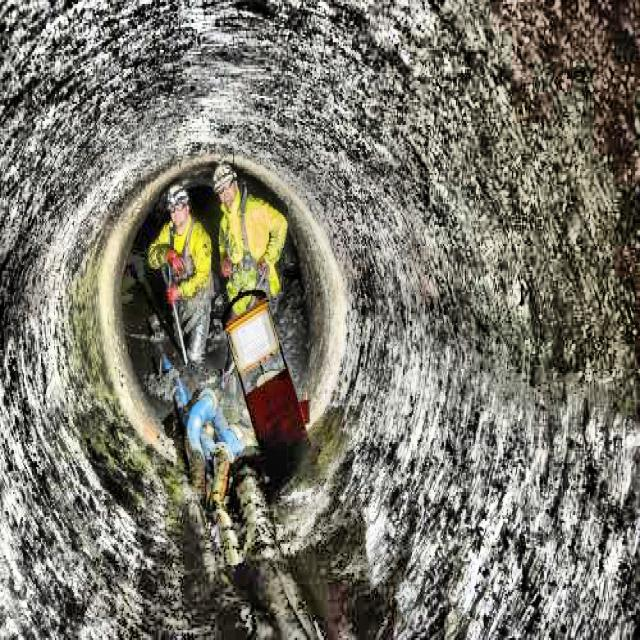helmet: (160, 178, 193, 230), (210, 156, 239, 210)
